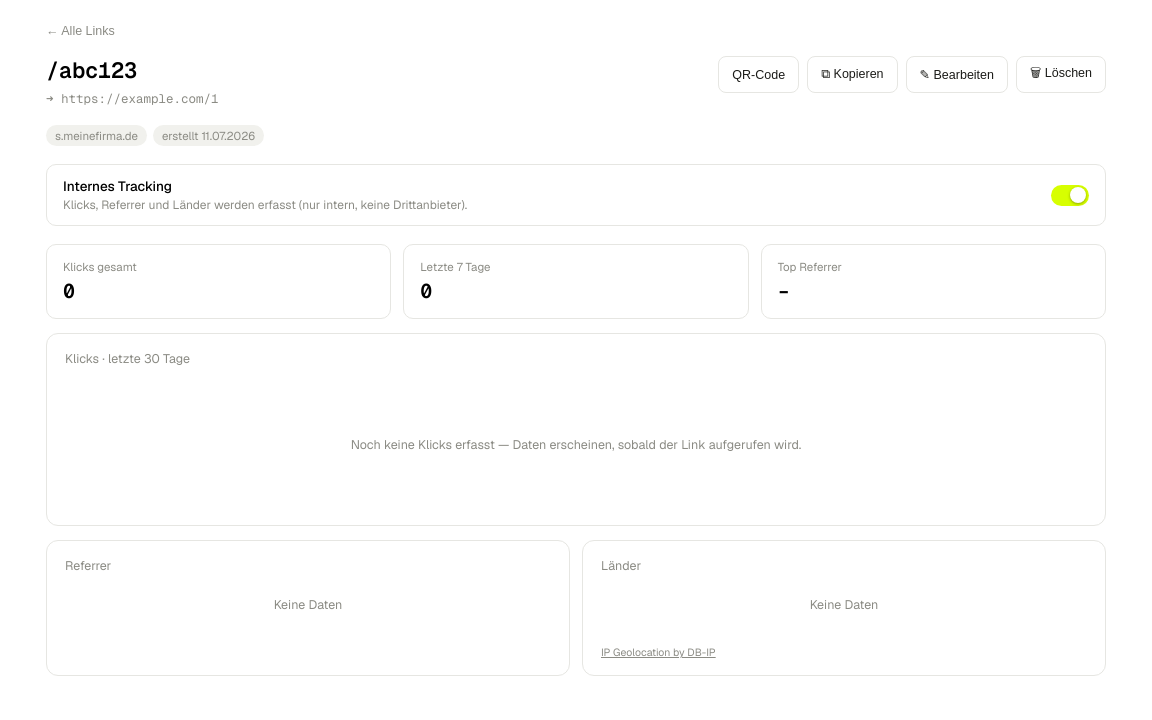
Test case: LinkDetailView › WR-09: a non-ApiError edit failure (e.g. a network error) surfaces a fallback toast instead of failing silently
Click the button with class "action-button" showing "✎ Bearbeiten" at (957, 74), box left=906, top=56, right=1008, bottom=93
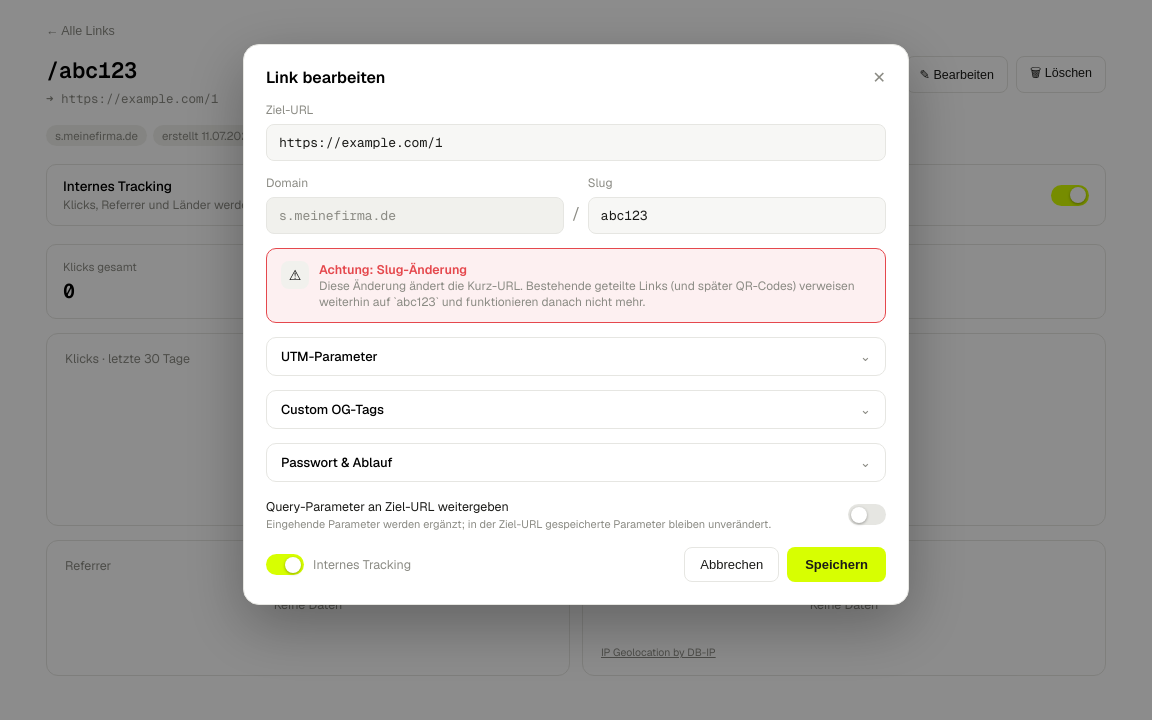
Click the button "Speichern" at (837, 564), box left=787, top=547, right=886, bottom=582
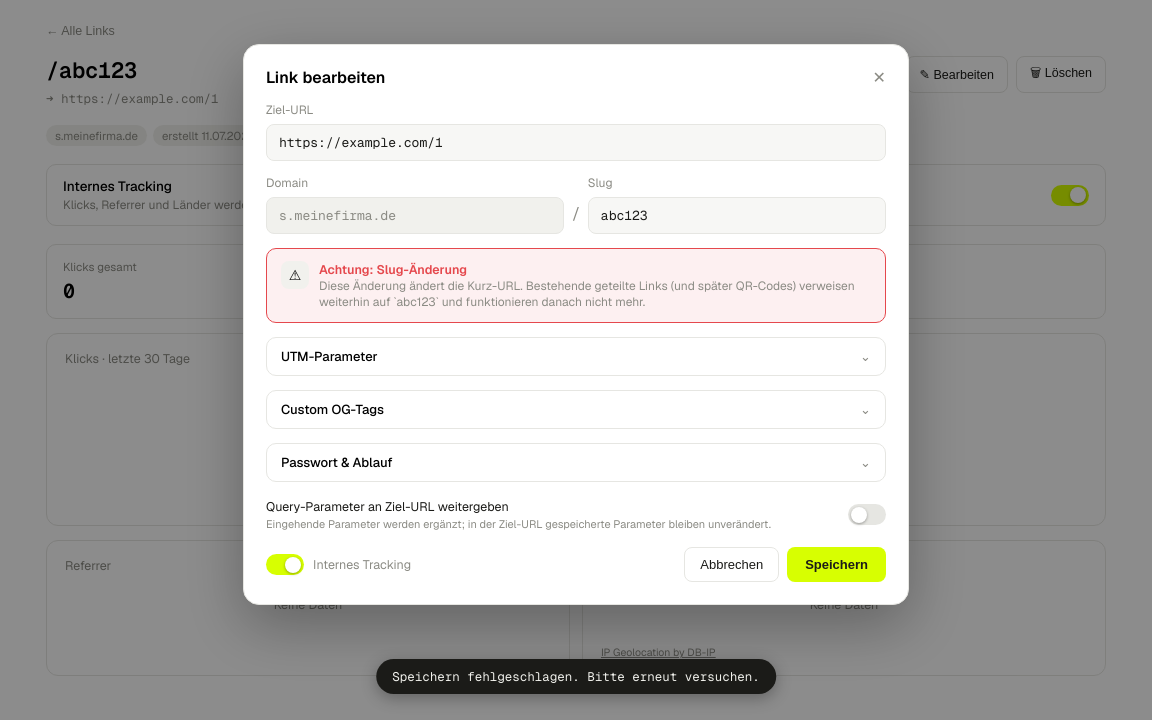
Expected: the text with class "toast" reads "Speichern fehlgeschlagen. Bitte erneut versuchen.", left=392, top=668, right=760, bottom=685
